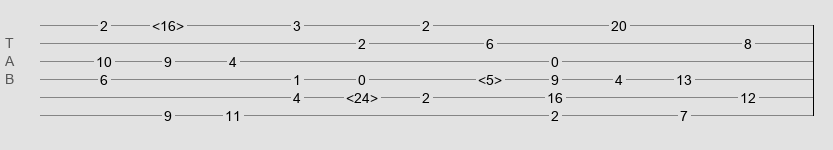0: (358, 72, 366, 82), (551, 54, 559, 64)
1: (293, 72, 301, 82)
10: (96, 54, 112, 64)
11: (225, 108, 241, 118)
12: (740, 90, 756, 100)
13: (676, 72, 692, 82)
16: (547, 90, 563, 100)
2: (100, 18, 108, 28), (358, 36, 366, 46), (422, 18, 430, 28), (422, 90, 430, 100), (551, 108, 559, 118)
20: (611, 18, 627, 28)
3: (293, 18, 301, 28)
4: (229, 54, 237, 64), (293, 90, 301, 100), (615, 72, 623, 82)
6: (100, 72, 108, 82), (486, 36, 494, 46)
7: (680, 108, 688, 118)
8: (744, 36, 752, 46)
9: (164, 54, 172, 64), (164, 108, 172, 118), (551, 72, 559, 82)
harmonic: (152, 18, 184, 28), (346, 90, 378, 100), (478, 72, 502, 82)
